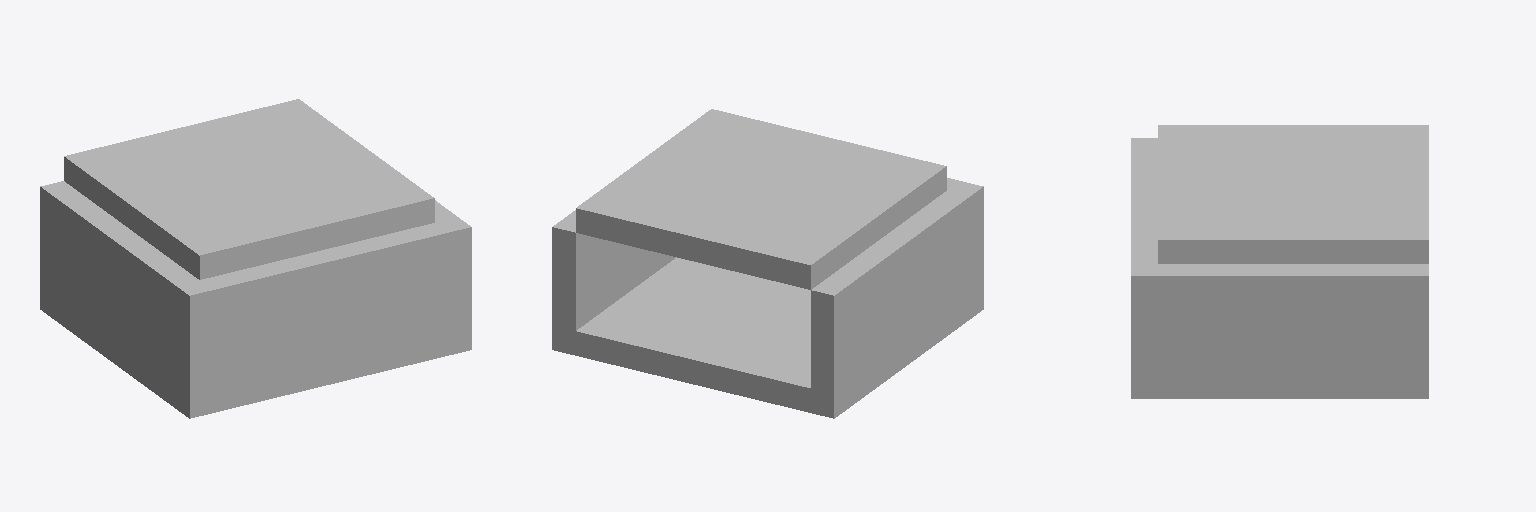
The model's file is bg_menu_1.obj.
3 renders of one model, left to right at view 1: azimuth 30°, elevation 25°; view 2: azimuth 150°, elevation 25°; view 3: azimuth 270°, elevation 25°, orthographic.
Parts seen in each view (by area): view 1: Backgrounds_Menu__-214_4_-108_to_-199_255_-95; view 2: Backgrounds_Menu__-214_4_-108_to_-199_255_-95; view 3: Backgrounds_Menu__-214_4_-108_to_-199_255_-95.
Part boxes in pixels (x1,y1,x2,y2): Backgrounds_Menu__-214_4_-108_to_-199_255_-95: (40, 99, 471, 418); Backgrounds_Menu__-214_4_-108_to_-199_255_-95: (552, 109, 983, 418); Backgrounds_Menu__-214_4_-108_to_-199_255_-95: (1131, 125, 1428, 398).
Size of the model in its own units: 12 by 6 by 11.